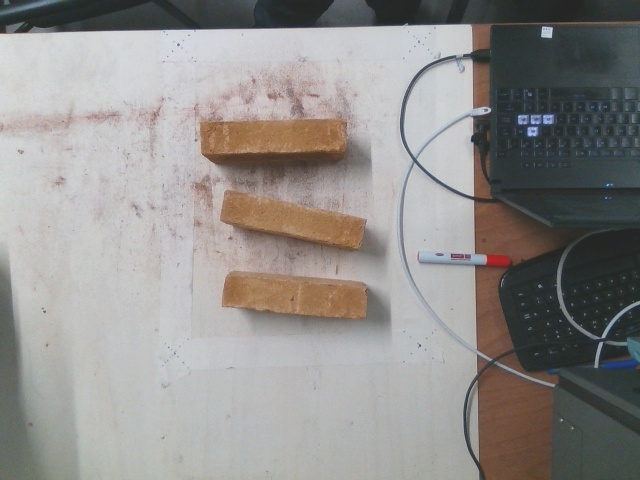brick-side: (223, 193, 366, 246), (222, 275, 365, 318), (201, 119, 342, 150)
